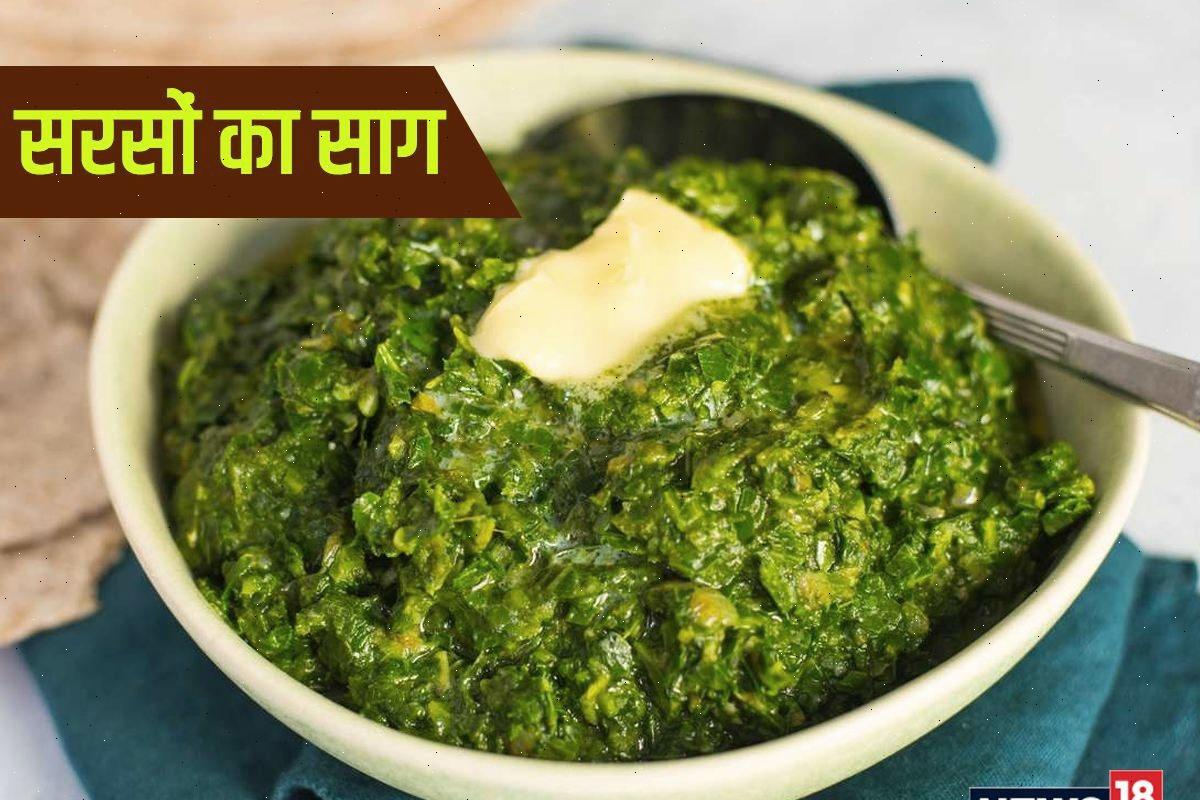saag: (119, 219, 1096, 755)
